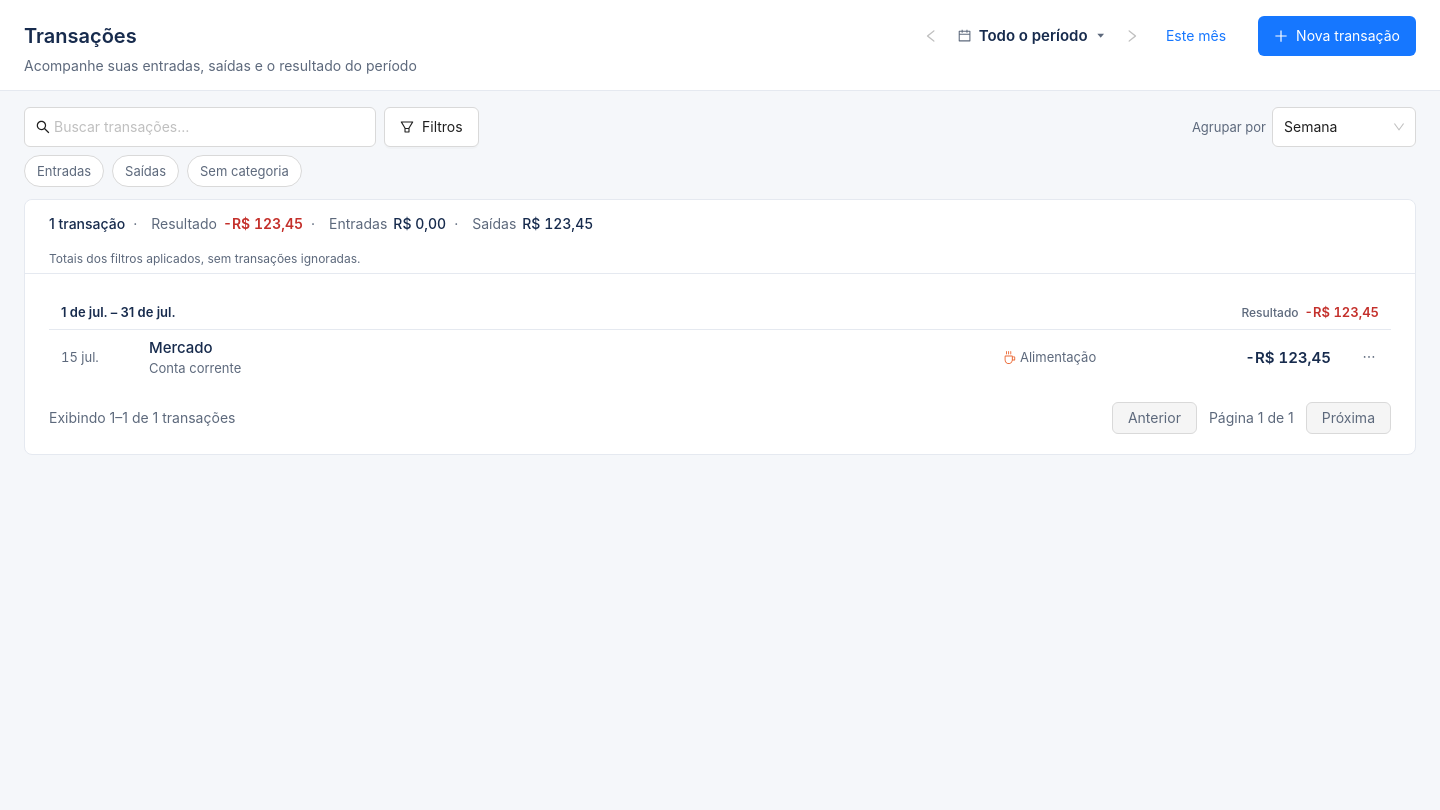
Test: TransactionsPage › keeps the panel open when a write moves the line out of the current results
Click the button with aria-label "Ver detalhes de Mercado" at [181, 347], box [149, 338, 987, 358]
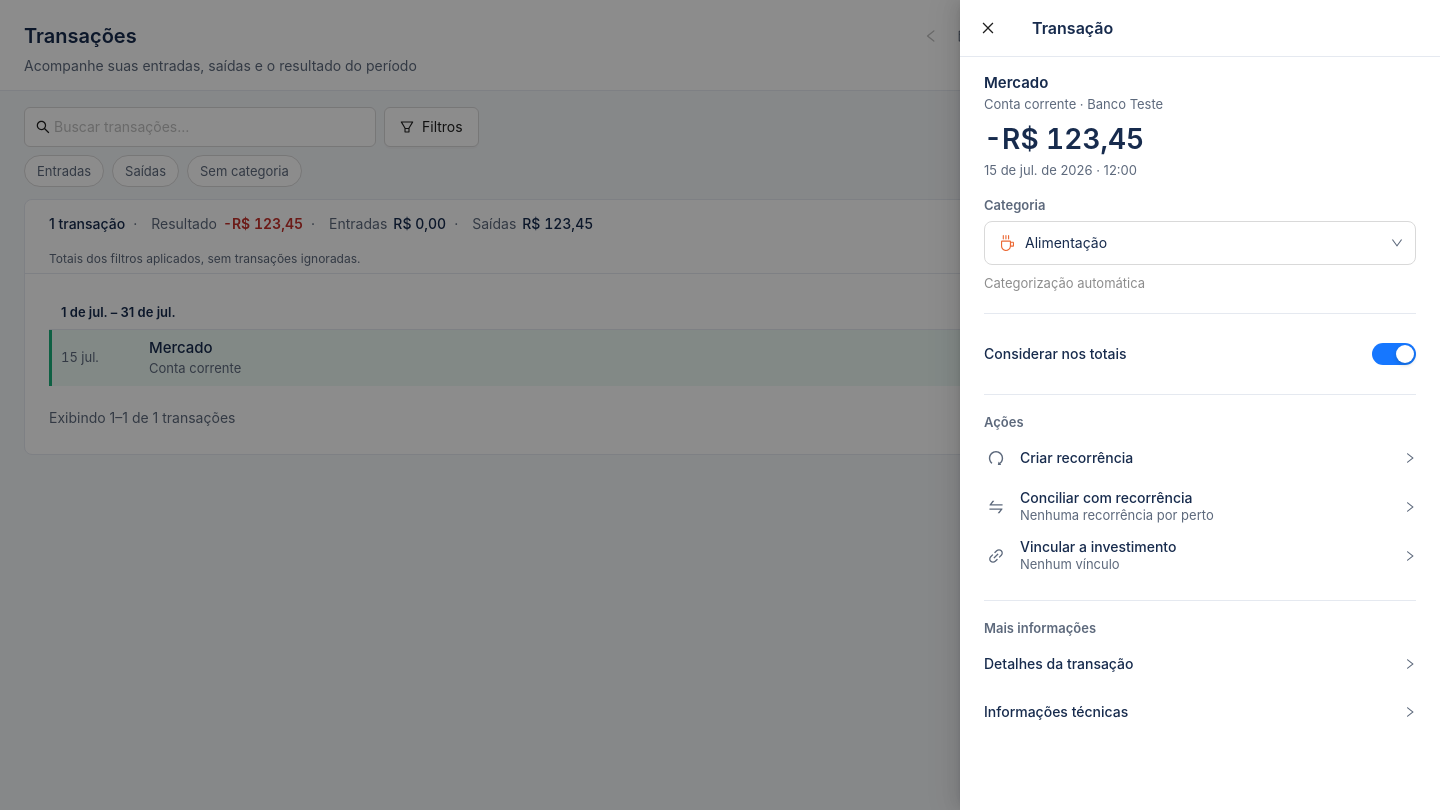
Expected: the switch named "Considerar nos totais" is checked
Click the switch named "Considerar nos totais" at [1394, 354], box [1372, 343, 1416, 365]
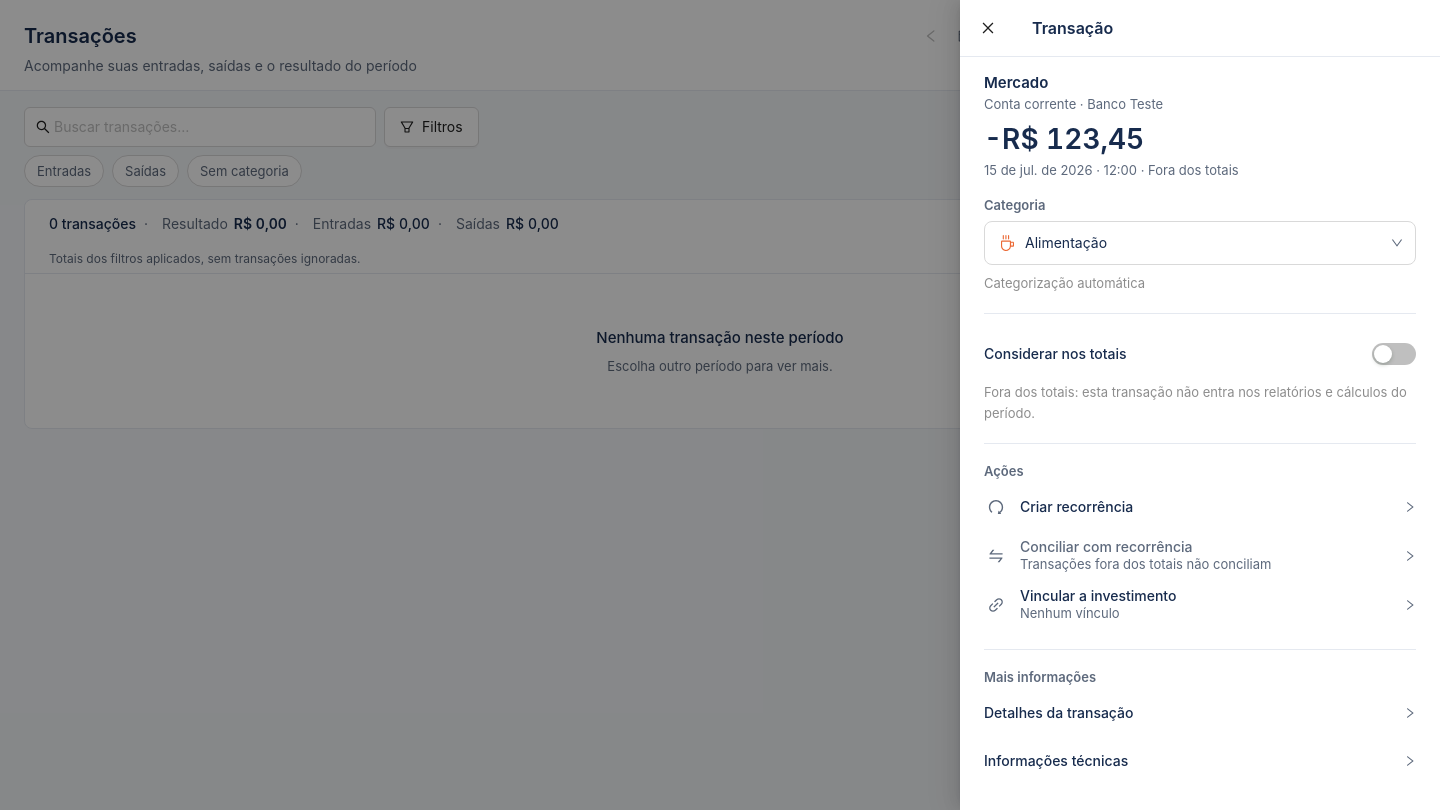
Expected: the switch named "Considerar nos totais" is not checked, [1372, 343, 1416, 365]
Expected: the heading "Transação" is shown, [1032, 18, 1113, 38]
Expected: the button "Ver detalhes de Mercado" is gone
